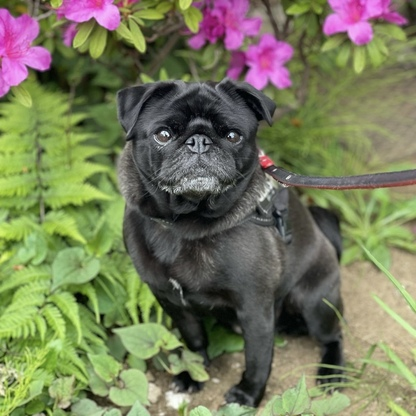Pug: (108, 75, 350, 410)
